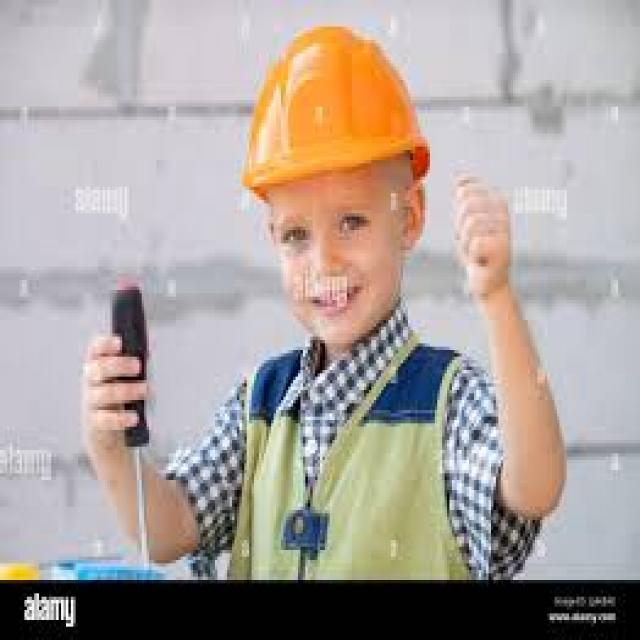screwdriver: (101, 270, 168, 580)
